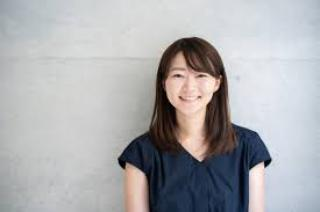person - v3 P: (124, 25, 308, 212)
